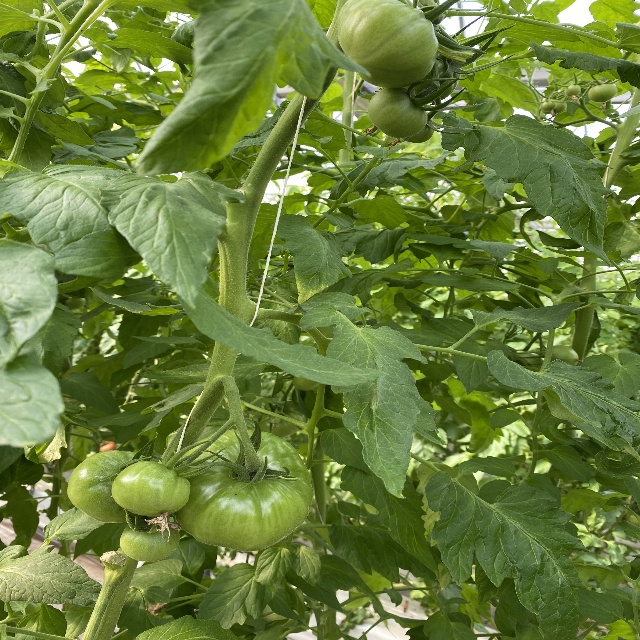b_green: (172, 429, 314, 552), (336, 0, 439, 88), (67, 449, 154, 524), (111, 460, 191, 518), (403, 39, 462, 104), (368, 88, 427, 138), (120, 518, 180, 562), (400, 119, 434, 143), (551, 344, 579, 366), (587, 84, 618, 102), (565, 85, 580, 96), (541, 101, 557, 111)
